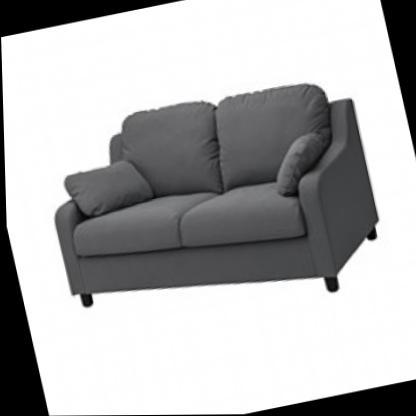Sofa: (19, 42, 398, 349)
